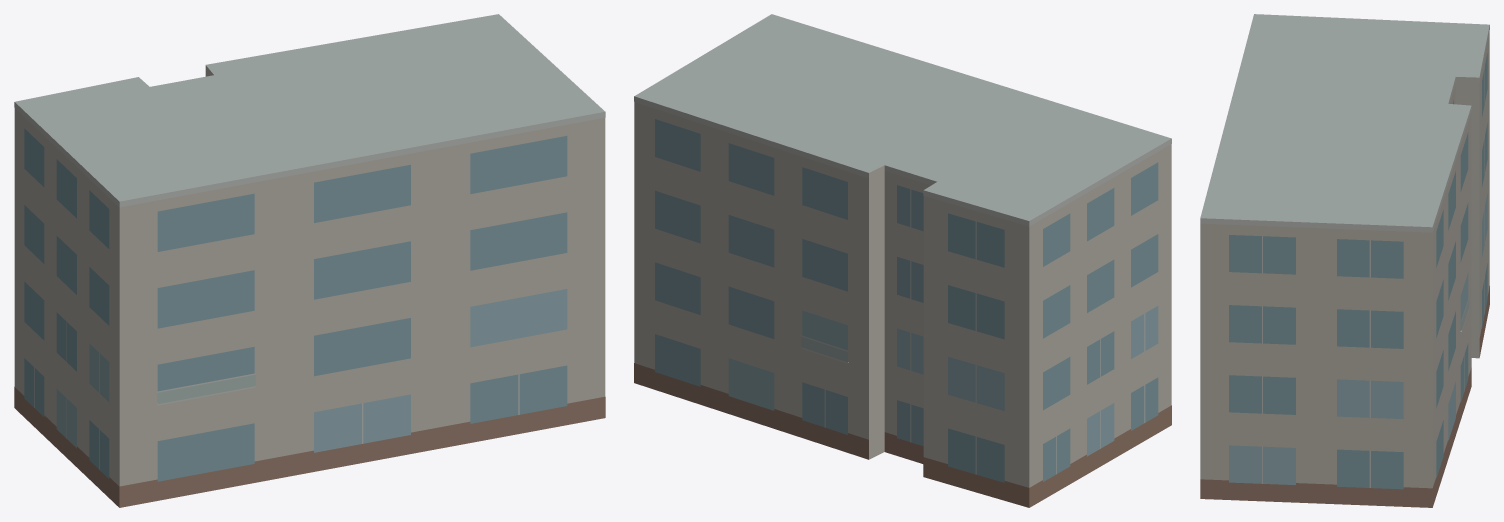
The model's file is survey-upis-32743384.glb.
3 views of the same model, side by side, from view 1: azimuth 30°, elevation 25°; view 2: azimuth 150°, elevation 25°; view 3: azimuth 270°, elevation 25° (orthographic). The views are drawn at different scales.
Visible parts, largest first — view 1: survey-upis-32743384.tmp; view 2: survey-upis-32743384.tmp; view 3: survey-upis-32743384.tmp.
Boxes of the visible parts, x1,y1,x2,y2 form: survey-upis-32743384.tmp: (14,14,605,507); survey-upis-32743384.tmp: (634,14,1171,507); survey-upis-32743384.tmp: (1200,14,1489,507).
Bounding box in the file's own units: 20.86 × 12.8 × 11.97.
